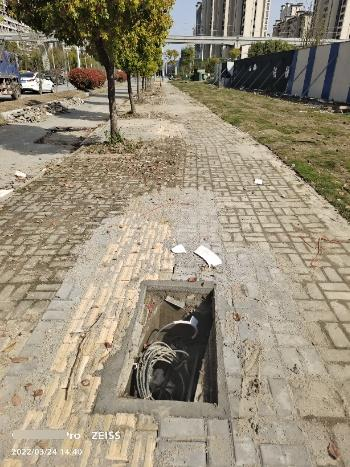wellcover: (107, 274, 233, 422)
